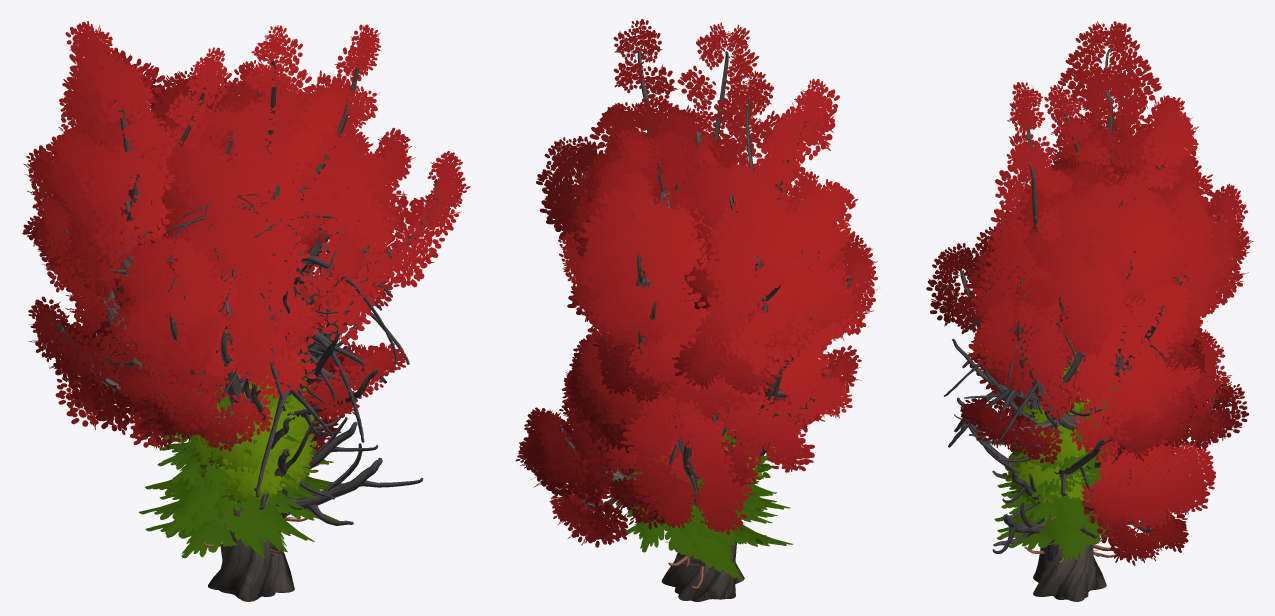
File: trees.glb
3 renders of one model, left to right at view 1: azimuth 30°, elevation 25°; view 2: azimuth 150°, elevation 25°; view 3: azimuth 270°, elevation 25°, orthographic. The views are drawn at different scales.
Visible parts, largest first — view 1: TwistedTree_2, TwistedTree_3, TwistedTree_5, DeadTree_2, Pine_2, DeadTree_4, Pine_4, Pine_5, CommonTree_1, CommonTree_2, CommonTree_3, DeadTree_1 (+2 smaller); view 2: TwistedTree_2, TwistedTree_3, TwistedTree_5, Pine_5, Pine_2, Pine_4; view 3: TwistedTree_3, TwistedTree_2, TwistedTree_5, DeadTree_2, Pine_5, Pine_4, DeadTree_4, DeadTree_1, CommonTree_2, Pine_2, CommonTree_1, CommonTree_3.
Part boxes in pixels (bbox=[...]): TwistedTree_2: bbox=[22, 21, 380, 601]; TwistedTree_3: bbox=[55, 60, 470, 601]; TwistedTree_5: bbox=[107, 67, 415, 601]; DeadTree_2: bbox=[200, 243, 423, 555]; Pine_2: bbox=[145, 456, 324, 558]; DeadTree_4: bbox=[176, 196, 409, 598]; Pine_4: bbox=[145, 377, 318, 547]; Pine_5: bbox=[139, 412, 343, 552]; CommonTree_1: bbox=[193, 387, 319, 503]; CommonTree_2: bbox=[190, 380, 317, 505]; CommonTree_3: bbox=[200, 363, 314, 477]; DeadTree_1: bbox=[161, 309, 378, 499]; TwistedTree_2: bbox=[558, 19, 879, 600]; TwistedTree_3: bbox=[515, 98, 877, 598]; TwistedTree_5: bbox=[543, 128, 782, 600]; Pine_5: bbox=[627, 430, 782, 571]; Pine_2: bbox=[622, 468, 793, 579]; Pine_4: bbox=[615, 424, 790, 588]; TwistedTree_3: bbox=[926, 159, 1253, 601]; TwistedTree_2: bbox=[967, 21, 1216, 601]; TwistedTree_5: bbox=[984, 155, 1248, 601]; DeadTree_2: bbox=[952, 293, 1120, 561]; Pine_5: bbox=[997, 377, 1175, 561]; Pine_4: bbox=[997, 341, 1138, 562]; DeadTree_4: bbox=[944, 319, 1164, 599]; DeadTree_1: bbox=[982, 359, 1126, 518]; CommonTree_2: bbox=[1002, 408, 1101, 505]; Pine_2: bbox=[994, 469, 1119, 559]; CommonTree_1: bbox=[1006, 409, 1091, 505]; CommonTree_3: bbox=[1008, 364, 1091, 503].
Size of what is drawn, in the model's own units: 13.49 by 19.08 by 11.51.
6 materials, 6 textured.
